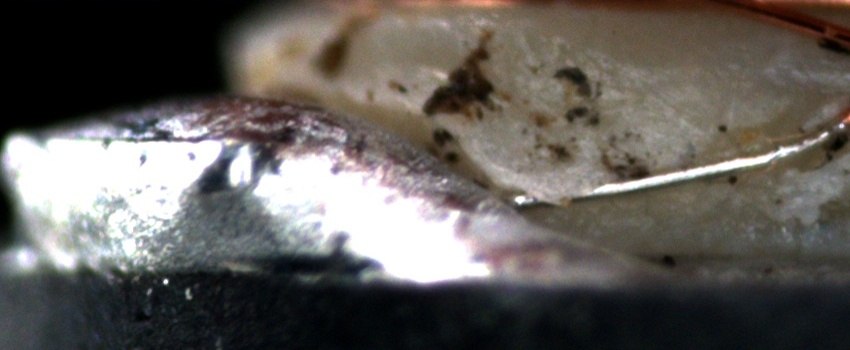DL: (599, 43, 850, 106)
TS: (507, 121, 845, 211)
